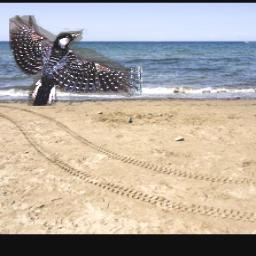Woodpecker: (9, 15, 142, 106)
